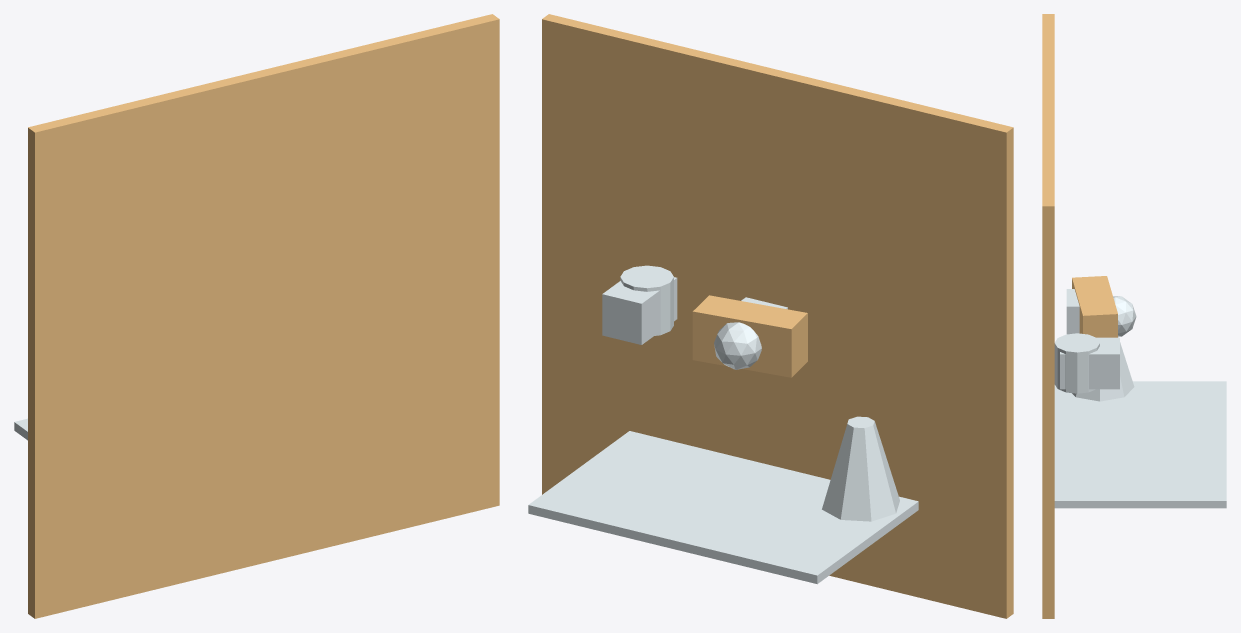
File: skatepark-legends-kit.glb
The picture shows the model from 3 angles, left to right: view 1: azimuth 30°, elevation 25°; view 2: azimuth 150°, elevation 25°; view 3: azimuth 270°, elevation 25°; orthographic projection. The views are drawn at different scales.
Visible parts, largest first — view 1: ENVIRONMENT_GROUND; view 2: ENVIRONMENT_GROUND, ENVIRONMENT_GATE, PLAYER_BODY, PROFILE_ENVIRONMENT_DETAIL, PROFILE_OBSTACLE_DETAIL, OBSTACLE, PLAYER_CORE; view 3: ENVIRONMENT_GATE, ENVIRONMENT_GROUND, PLAYER_BODY, OBSTACLE, PROFILE_OBSTACLE_DETAIL, PROFILE_ENVIRONMENT_DETAIL, PLAYER_CORE, PROFILE_PLAYER_DETAIL.
Boxes of the visible parts, box(x1,y1,x2,y2) form: ENVIRONMENT_GROUND: box(28, 14, 499, 618); ENVIRONMENT_GROUND: box(542, 14, 1013, 618); ENVIRONMENT_GATE: box(528, 431, 918, 584); PLAYER_BODY: box(692, 295, 807, 377); PROFILE_ENVIRONMENT_DETAIL: box(822, 416, 899, 521); PROFILE_OBSTACLE_DETAIL: box(602, 277, 677, 344); OBSTACLE: box(620, 265, 673, 335); PLAYER_CORE: box(714, 322, 761, 369); ENVIRONMENT_GATE: box(1054, 381, 1226, 508); ENVIRONMENT_GROUND: box(1042, 14, 1054, 618); PLAYER_BODY: box(1072, 276, 1117, 337); OBSTACLE: box(1054, 333, 1099, 393); PROFILE_OBSTACLE_DETAIL: box(1060, 337, 1119, 389); PROFILE_ENVIRONMENT_DETAIL: box(1072, 337, 1134, 401); PLAYER_CORE: box(1113, 296, 1136, 336); PROFILE_PLAYER_DETAIL: box(1066, 289, 1079, 334).
Size of what is drawn, in the model's own units: 9 by 9 by 3.64.
